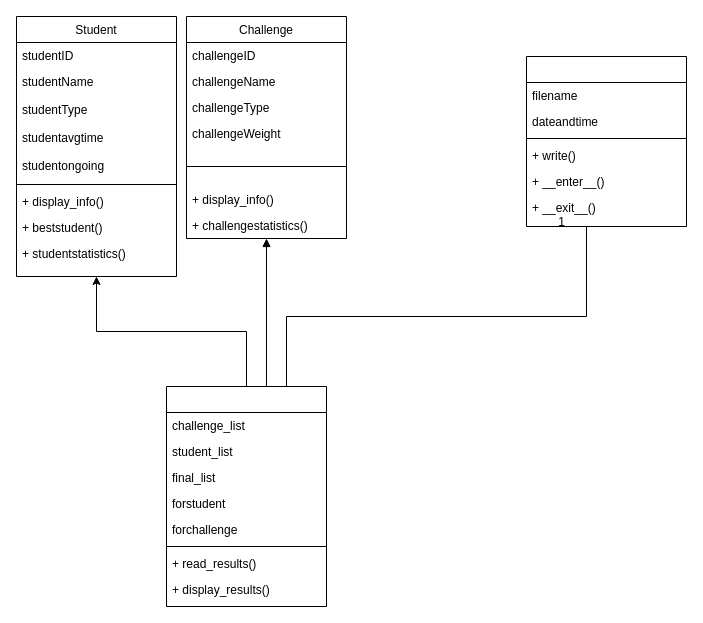
Image size: 703x623. Some labels were removed from this diagram. Here are the shapes that lost their labels. From the top down, the box of each, then its label:
(526, 56, 686, 226): FilePrinter
(166, 386, 326, 606): Competition
